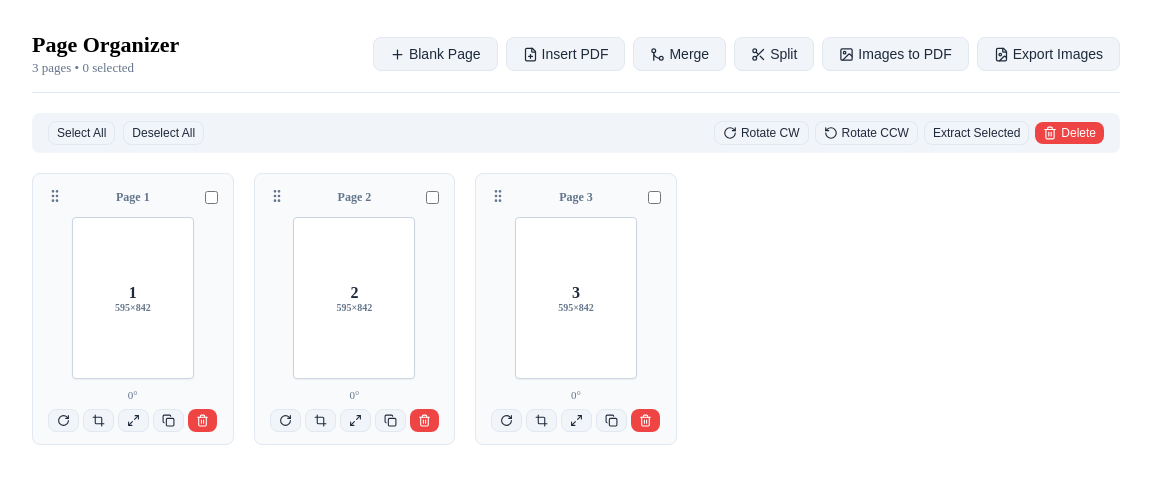
Test: Phase 13 UI Integration: Page Management, Bookmarks, and Conversion › Task 13.1, 13.2, 13.3, 13.8, 13.9: PageOrganizerPage › renders page grid cards and toggles selection
Check: the element with test id "page-card-p1" is shown, box [32, 173, 234, 445]
Check: the element with test id "page-card-p2" is shown, box [254, 173, 455, 445]
Click the checkbox with test id "page-select-checkbox-p1": coordinates (211, 198) [205, 191, 218, 204]
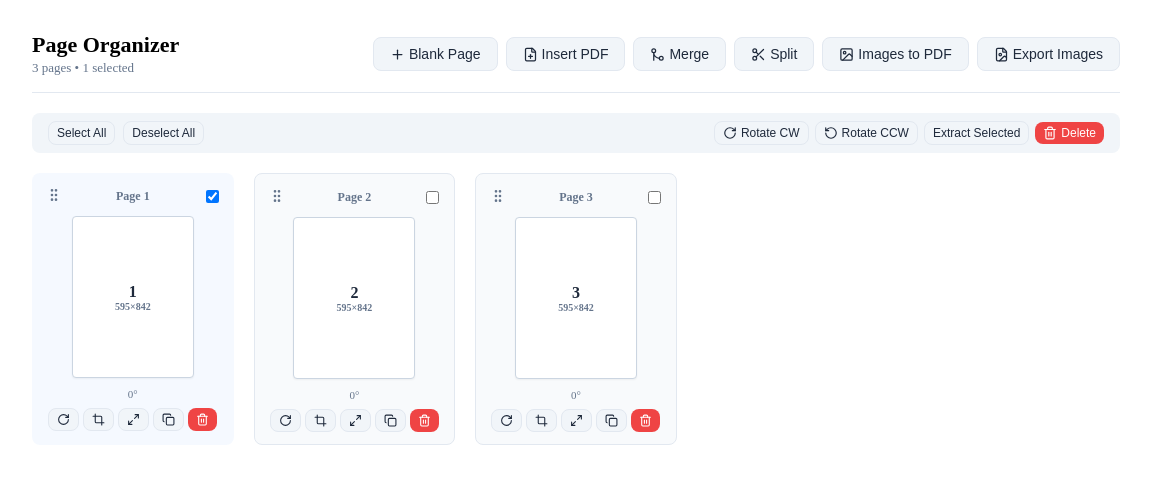
Check: the checkbox with test id "page-select-checkbox-p1" is checked, box [206, 190, 219, 203]
Click the button with test id "select-all-pages-btn": coordinates (82, 133) [48, 121, 115, 145]
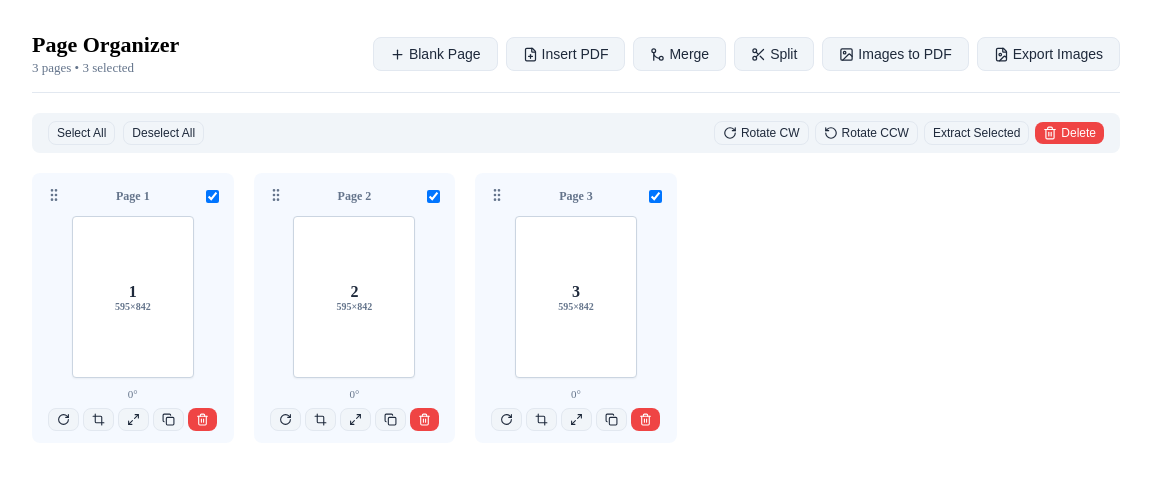
Check: the checkbox with test id "page-select-checkbox-p2" is checked, box [427, 190, 440, 203]
Click the button with test id "deselect-all-pages-btn": coordinates (164, 133) [123, 121, 204, 145]
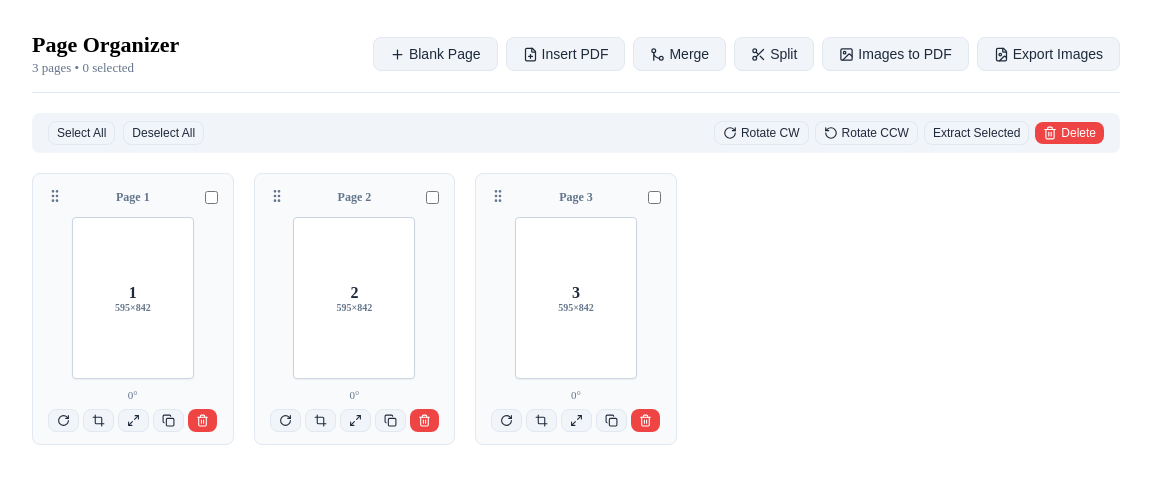
Check: the checkbox with test id "page-select-checkbox-p1" is not checked, box [205, 191, 218, 204]
